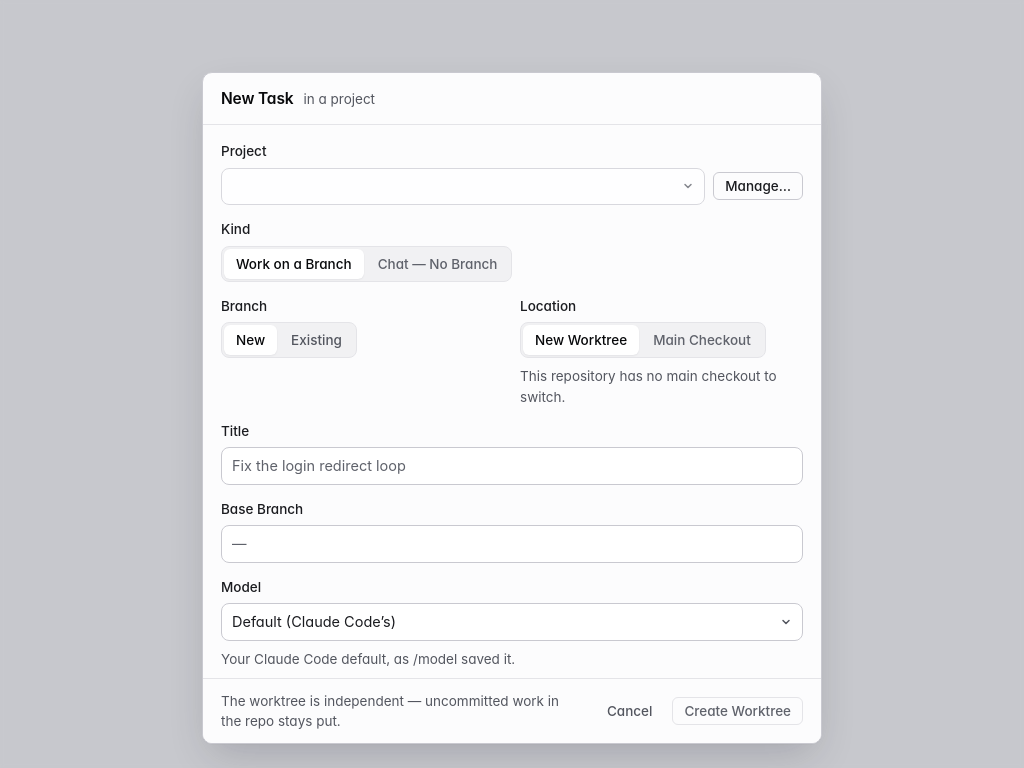
Test: NewTaskDialog partial create › undoes the worktree it just created when the task row cannot be written
Type "Fix login" into the field labelled "Title" at (512, 466), box [221,447,803,485]
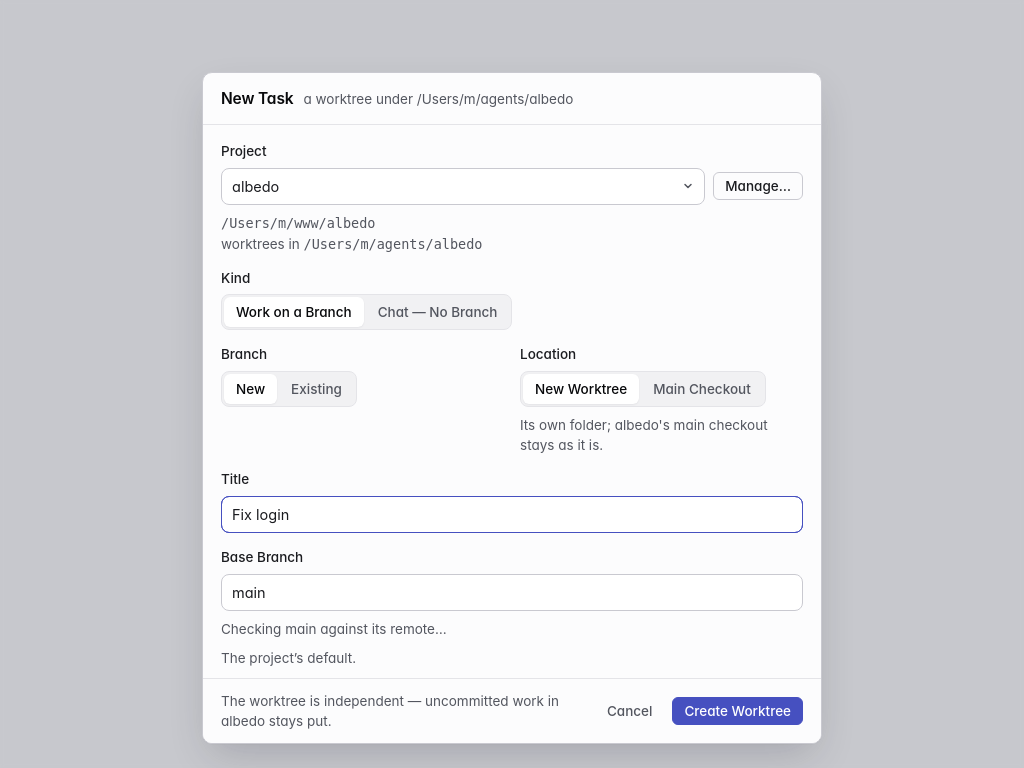
Check: the button "Create Worktree" is enabled
Click the button "Create Worktree" at (738, 711), box [672,697,803,725]
(page scrolled)
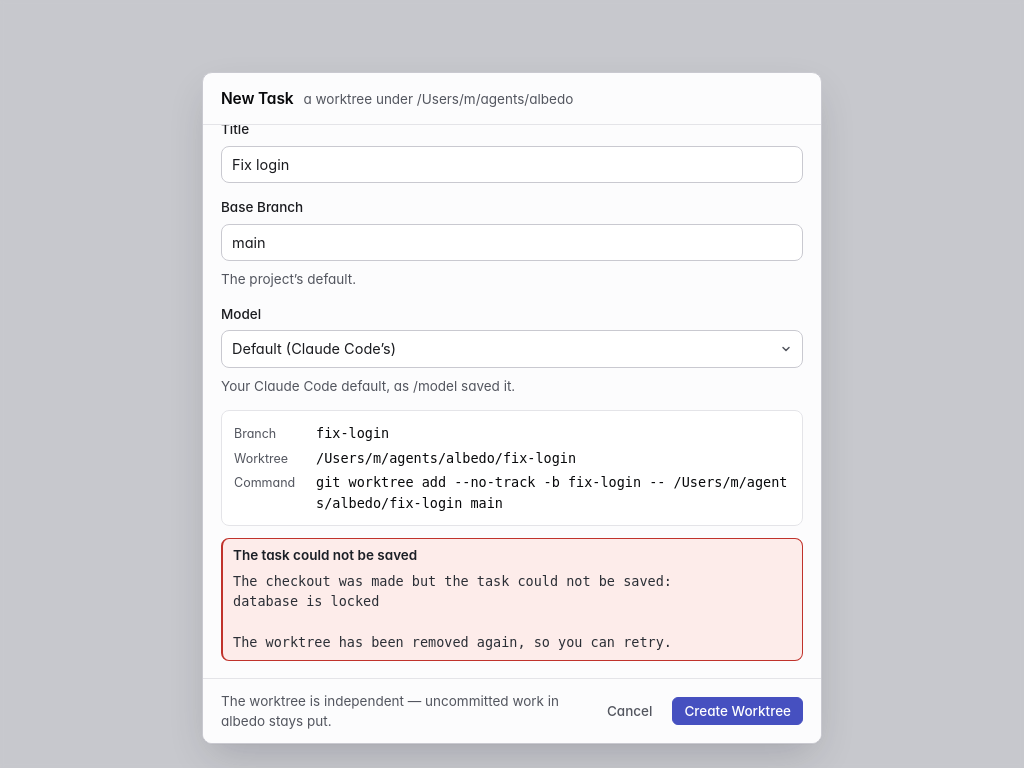
Check: the text "The task could not be saved" is shown, box [233,547,417,563]
Check: the text "has been removed again" is shown, box [233,573,672,650]
